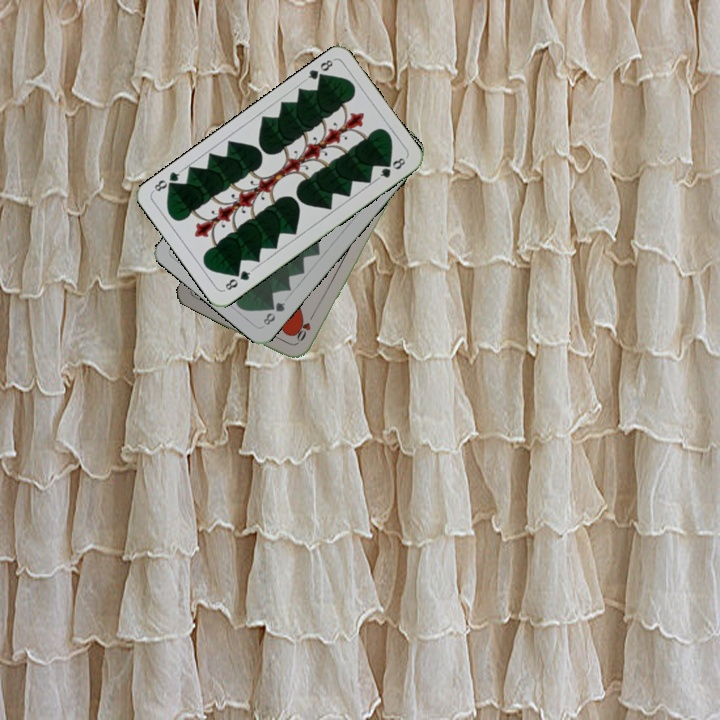G8: (301, 55, 336, 85), (220, 265, 255, 293), (259, 298, 288, 328)
HO: (292, 309, 318, 346)
